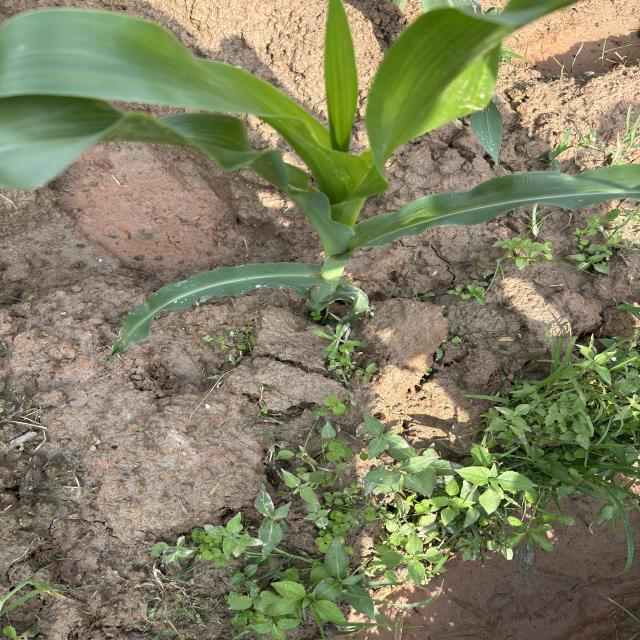maize: (4, 92, 467, 304), (458, 169, 640, 210)
weed: (156, 424, 468, 632), (440, 335, 640, 640), (481, 230, 621, 302), (554, 124, 640, 168), (322, 329, 376, 393), (204, 323, 248, 375)
